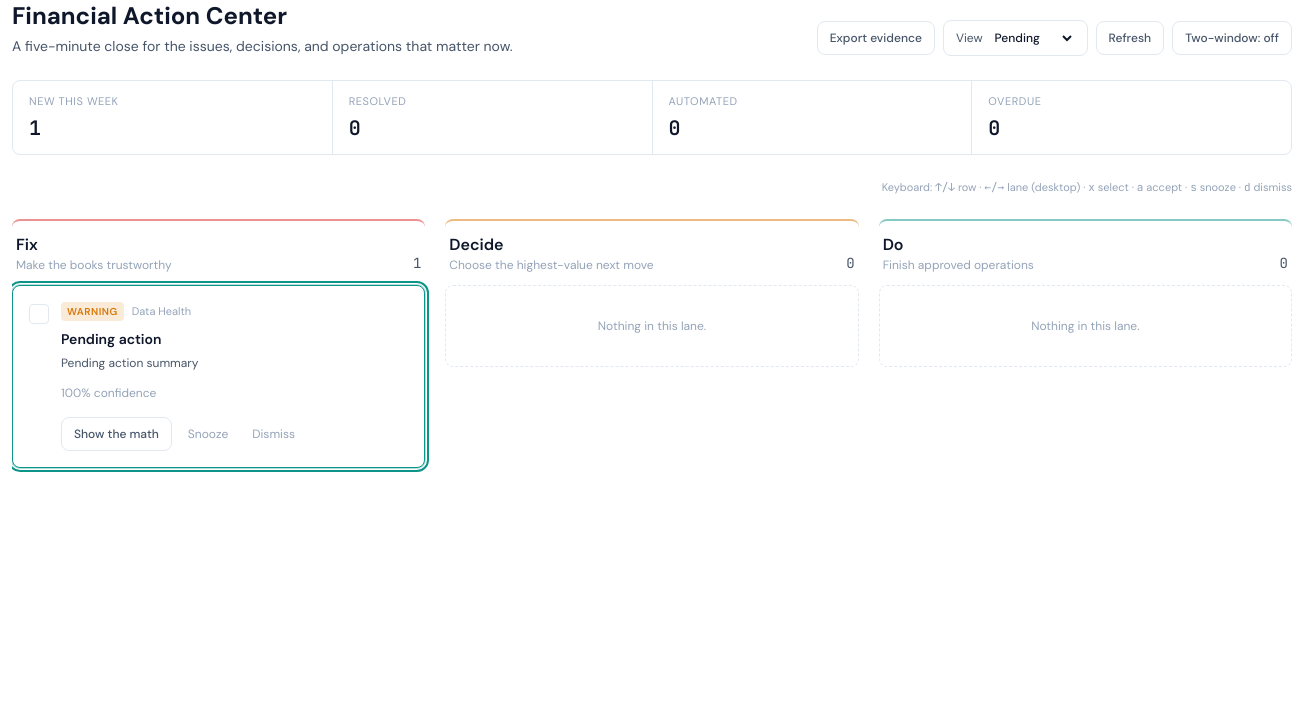
FinancialActionCenterPage mutations › supports pending, all, and completed-only views
Expected: the heading "Pending action" is shown, x1=61 y1=330 x2=161 y2=348
Expected: the text "Resolved action" is not shown
Step 1. Select "Completed" in the dropdown named "Action view" → x=1032, y=38, box x1=990 y1=29 x2=1074 y2=47
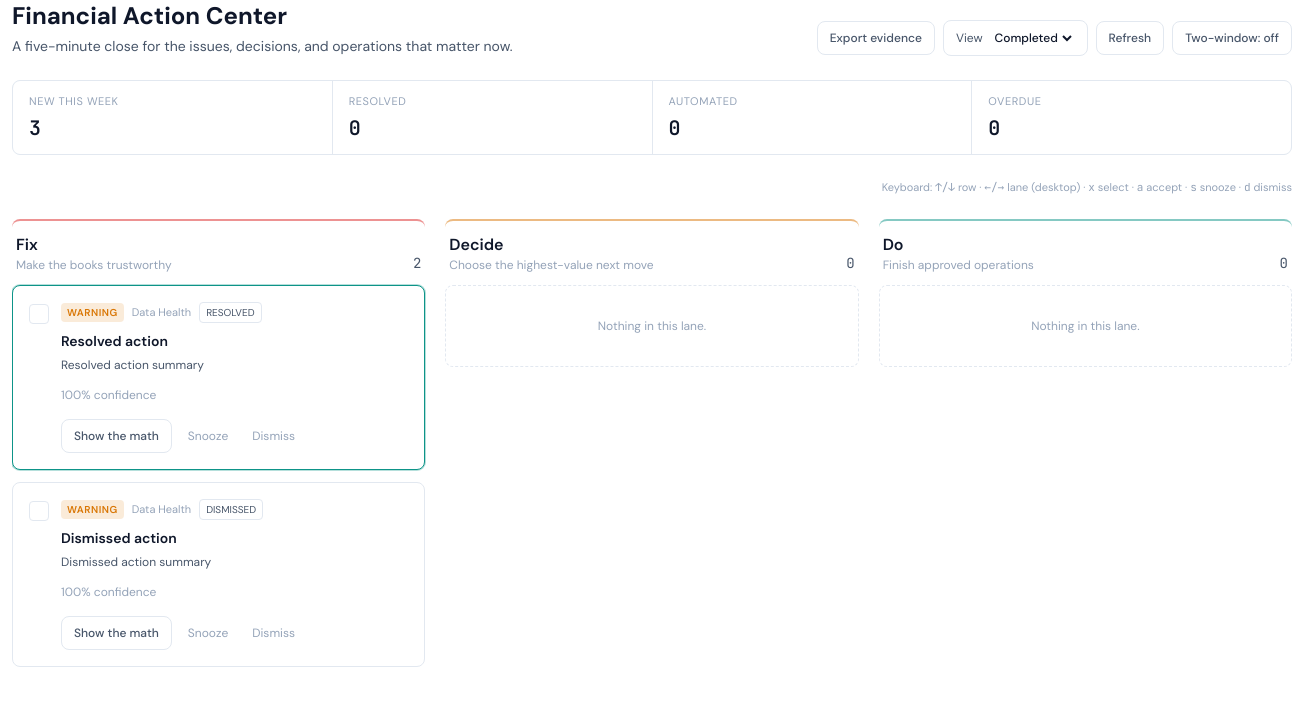
Now the heading "Resolved action" is shown, box x1=61 y1=332 x2=168 y2=350
Now the heading "Dismissed action" is shown, box x1=61 y1=529 x2=177 y2=547
Now the heading "Pending action" is gone
Step 2. Select "All" in the dropdown named "Action view" → x=1032, y=38, box x1=990 y1=29 x2=1074 y2=47
(page scrolled)
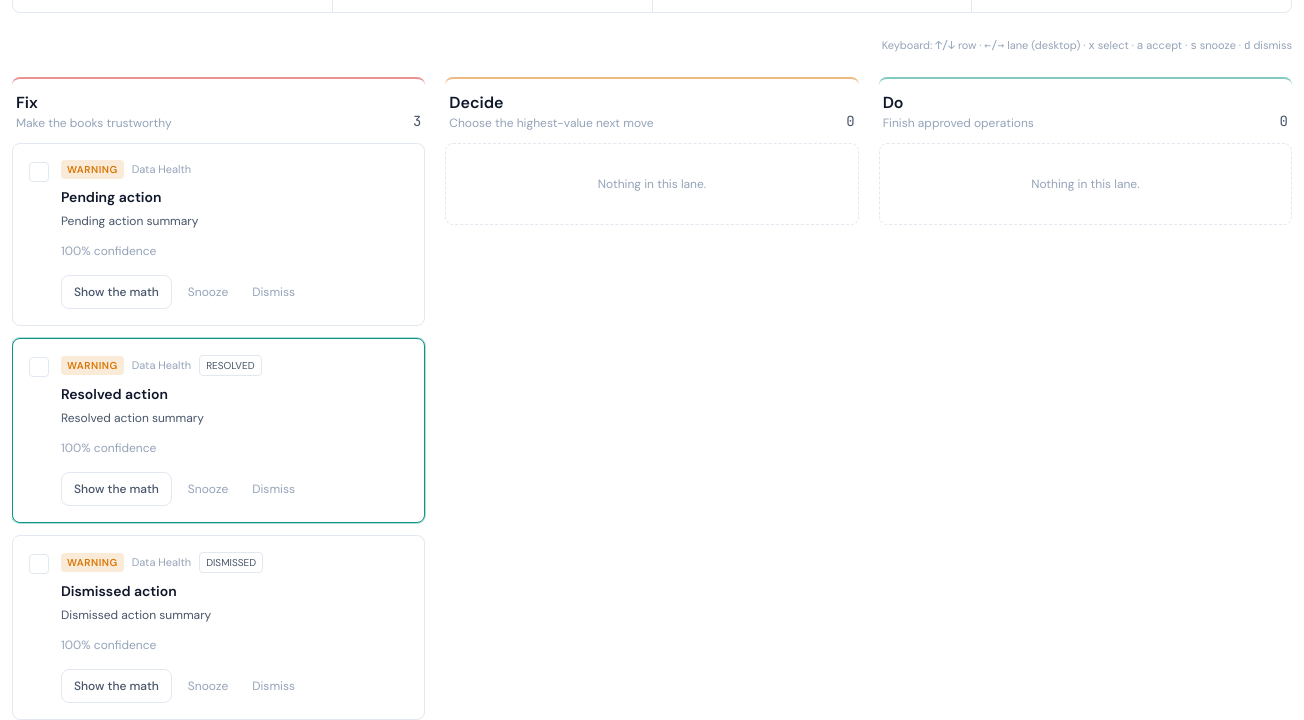
Now the heading "Resolved action" is shown, box x1=61 y1=385 x2=168 y2=403
Now the heading "Dismissed action" is shown, box x1=61 y1=582 x2=177 y2=600
Now the heading "Pending action" is shown, box x1=61 y1=188 x2=161 y2=206
